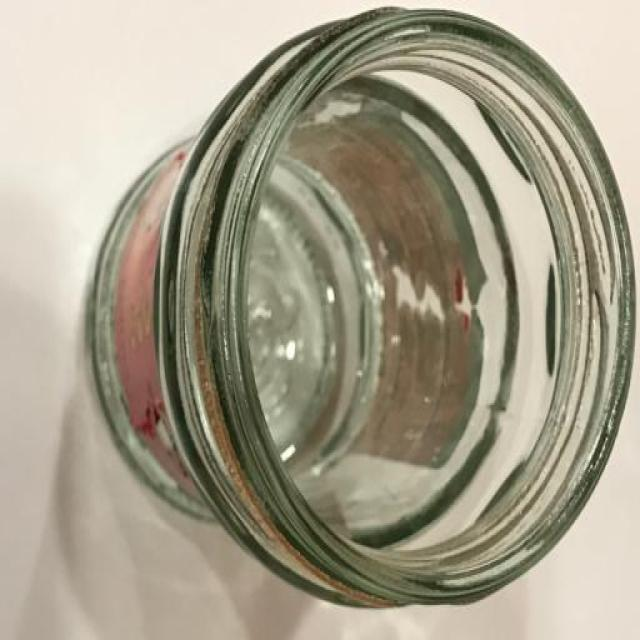glass: (87, 6, 633, 610)
